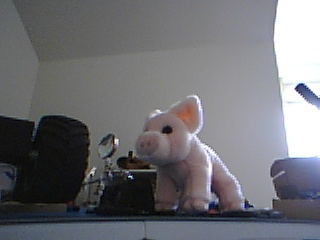piggy: (135, 93, 246, 216)
